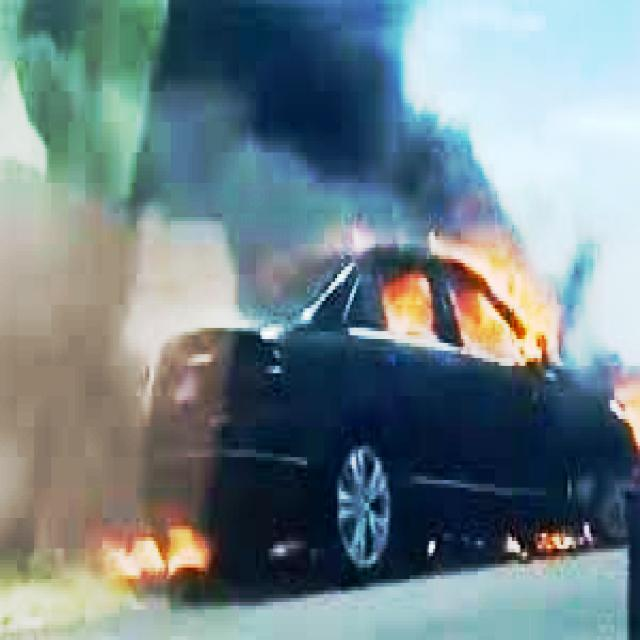api: (374, 192, 560, 375), (95, 493, 231, 596), (509, 496, 605, 576), (605, 348, 639, 435)
